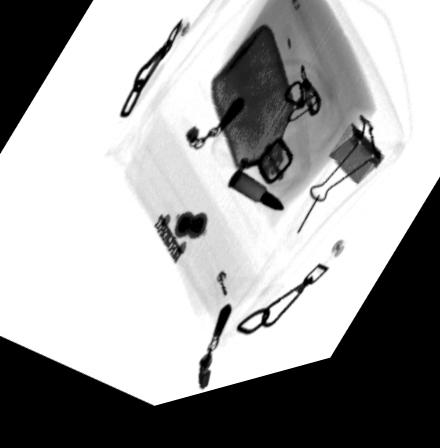Bullet: (224, 180, 284, 226)
